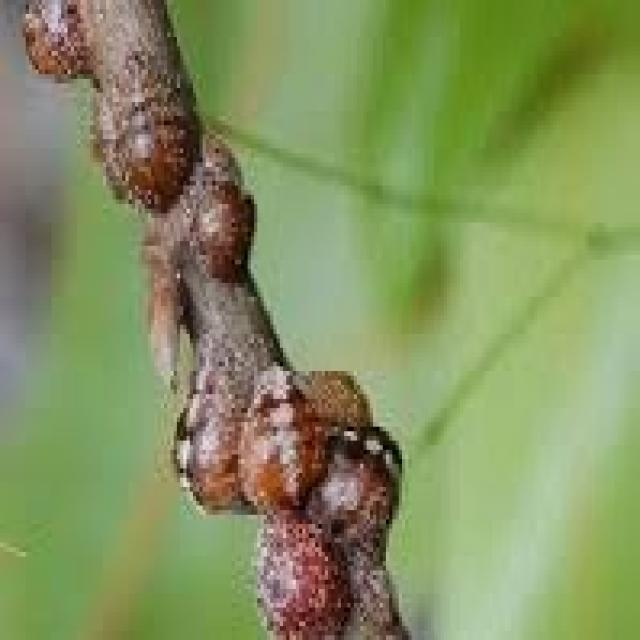Black Scale: (177, 371, 408, 635), (116, 51, 196, 209), (23, 0, 96, 96), (203, 181, 251, 278)
